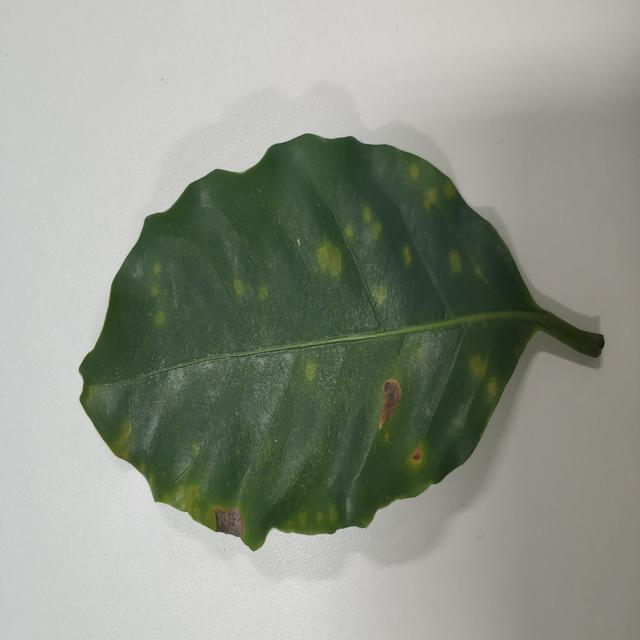Enfermedad-Roya: (77, 133, 605, 553)
